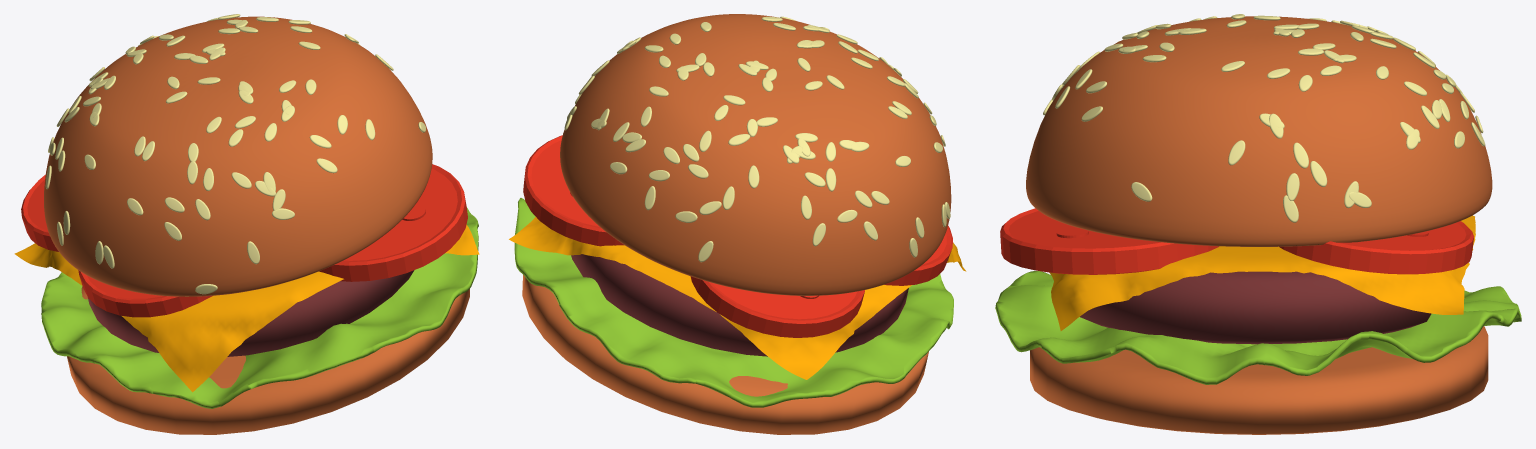
File: withanimation.glb
3 views of the same model, side by side, from view 1: azimuth 30°, elevation 25°; view 2: azimuth 150°, elevation 25°; view 3: azimuth 270°, elevation 25° (orthographic). The views are drawn at different scales.
Visible parts, largest first — view 1: bred up.001, green .002, bred down.001, Plane.003, tomato.004, meat.001, tomato.005, tomato.006; view 2: bred up.001, green .002, bred down.001, meat.001, Plane.003, tomato.006, tomato.007, tomato.005; view 3: bred up.001, bred down.001, green .002, meat.001, Plane.003, tomato.004, tomato.007.
Boxes of the visible parts, box(x1,y1,x2,y2) form: bred up.001: box(44, 14, 432, 296); green .002: box(41, 207, 478, 408); bred down.001: box(67, 286, 469, 434); Plane.003: box(14, 224, 479, 392); tomato.004: box(319, 164, 467, 281); meat.001: box(87, 270, 414, 356); tomato.005: box(78, 270, 212, 317); tomato.006: box(21, 175, 58, 251); bred up.001: box(560, 14, 951, 295); green .002: box(514, 198, 953, 407); bred down.001: box(522, 275, 928, 434); meat.001: box(571, 254, 908, 356); Plane.003: box(509, 217, 966, 379); tomato.006: box(690, 276, 864, 337); tomato.007: box(523, 135, 624, 246); tomato.005: box(884, 225, 952, 285); bred up.001: box(1026, 14, 1492, 246); bred down.001: box(1030, 326, 1488, 434); green .002: box(995, 271, 1521, 384); meat.001: box(1080, 271, 1431, 344); Plane.003: box(1049, 215, 1475, 330); tomato.004: box(1000, 208, 1218, 274); tomato.007: box(1279, 221, 1473, 274).
Size of the model in its own units: 2.67 by 2.18 by 2.73.
